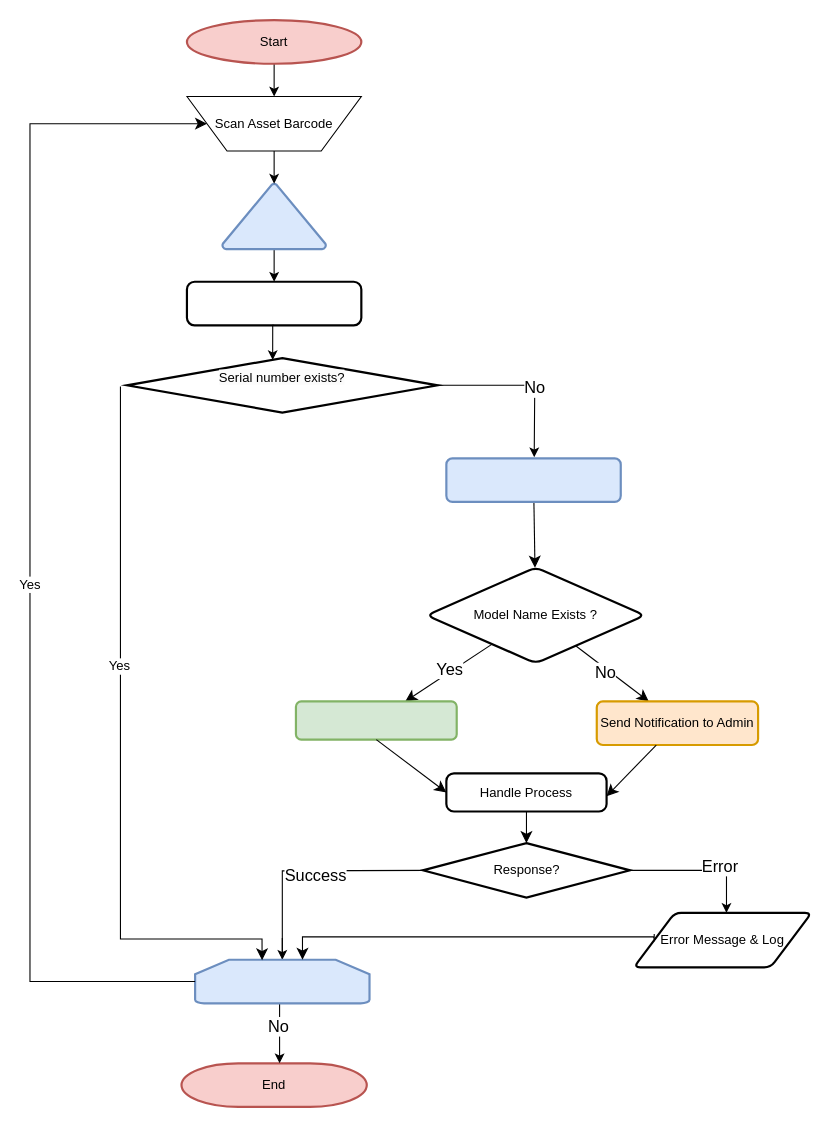
Some shapes in this 832 by 1126 pixel diagram are drawn without their labels. The shapes that lost their labels are listed below. From the top down, each one's centre as x and y in pixels, then its label:
(x=273, y=216): Extract Serial Number
(x=273, y=303): Connect to LEAMS (API)
(x=533, y=479): Select Model & Status
(x=375, y=720): Create New Asset
(x=281, y=981): Scan Another Asset?
